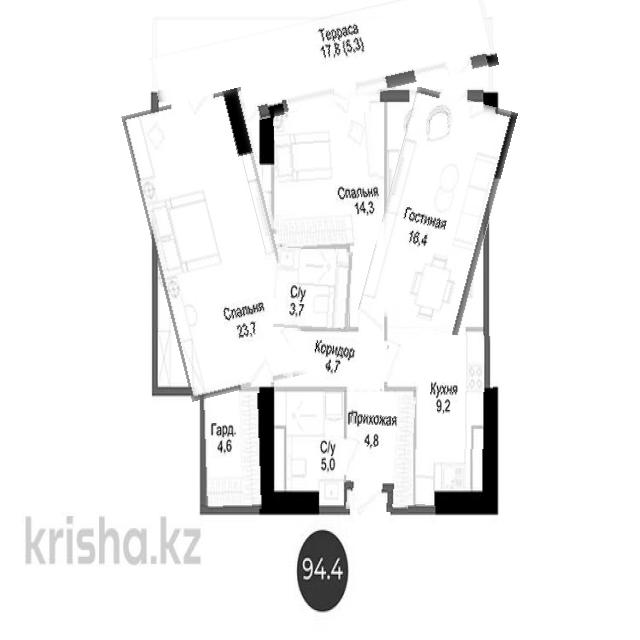balcony: (151, 0, 496, 122)
bathroom: (274, 395, 344, 509), (275, 248, 352, 331)
hallway: (346, 393, 414, 512), (285, 333, 387, 388)
kitchen: (415, 335, 493, 506)
living_room: (138, 93, 295, 397), (372, 91, 504, 332), (276, 112, 382, 249)
other: (202, 394, 272, 510)
